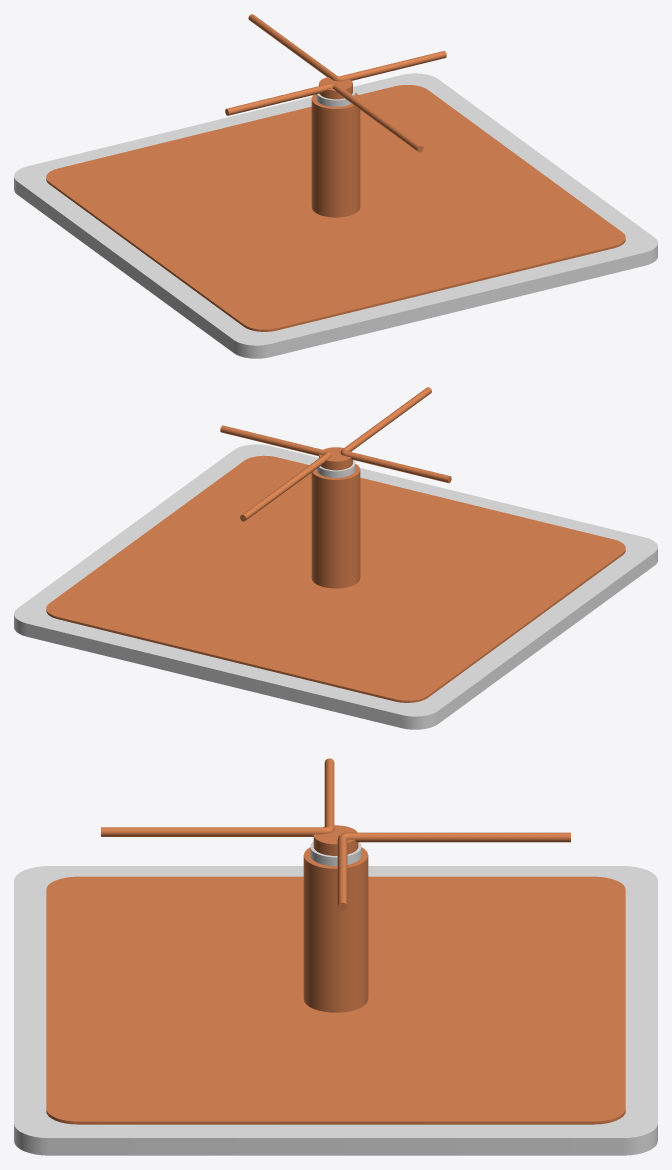
File: crosshair_antenna.glb
3 views of the same model, one above another, from view 1: azimuth 30°, elevation 25°; view 2: azimuth 150°, elevation 25°; view 3: azimuth 270°, elevation 25° (orthographic). The views are drawn at different scales.
Visible parts, largest first — view 1: gnd, board, Cylinder, Point, Point.001; view 2: gnd, board, Cylinder, Point.001, Point; view 3: gnd, board, Cylinder, Point.001, Point.
Boxes of the visible parts, bbox=[...] form: gnd: bbox=[46, 85, 625, 331]; board: bbox=[14, 73, 657, 358]; Cylinder: bbox=[311, 77, 360, 217]; Point: bbox=[225, 83, 423, 152]; Point.001: bbox=[248, 14, 446, 81]; gnd: bbox=[46, 455, 625, 702]; board: bbox=[14, 444, 657, 729]; Cylinder: bbox=[311, 447, 360, 588]; Point.001: bbox=[220, 425, 331, 521]; Point: bbox=[340, 387, 451, 483]; gnd: bbox=[46, 876, 625, 1124]; board: bbox=[14, 866, 657, 1155]; Cylinder: bbox=[303, 825, 368, 1012]; Point.001: bbox=[337, 832, 570, 911]; Point: bbox=[101, 758, 334, 836].
Size of the model in its own units: 2 by 0.648 by 2.
